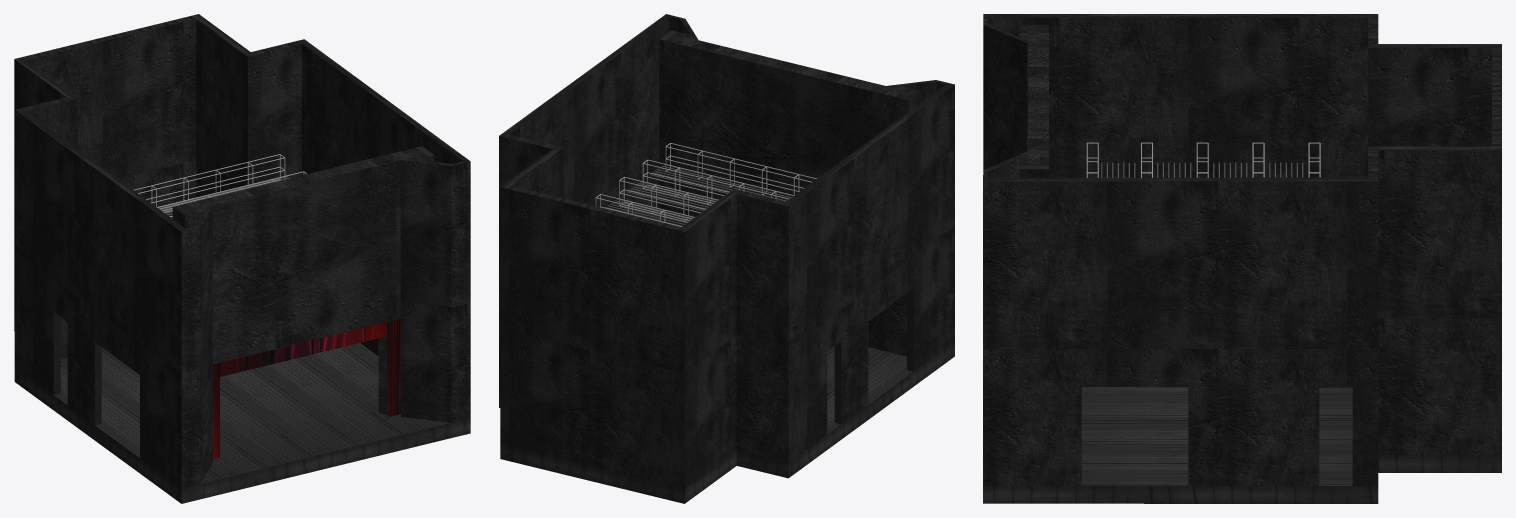
The model's file is theatre-stage.glb.
3 renders of one model, left to right at view 1: azimuth 30°, elevation 25°; view 2: azimuth 150°, elevation 25°; view 3: azimuth 270°, elevation 25°, orthographic. The views are drawn at different scales.
Bounding box in the file's own units: 12 × 10.77 × 15.71.
Materials: 7 (4 with a texture image).
